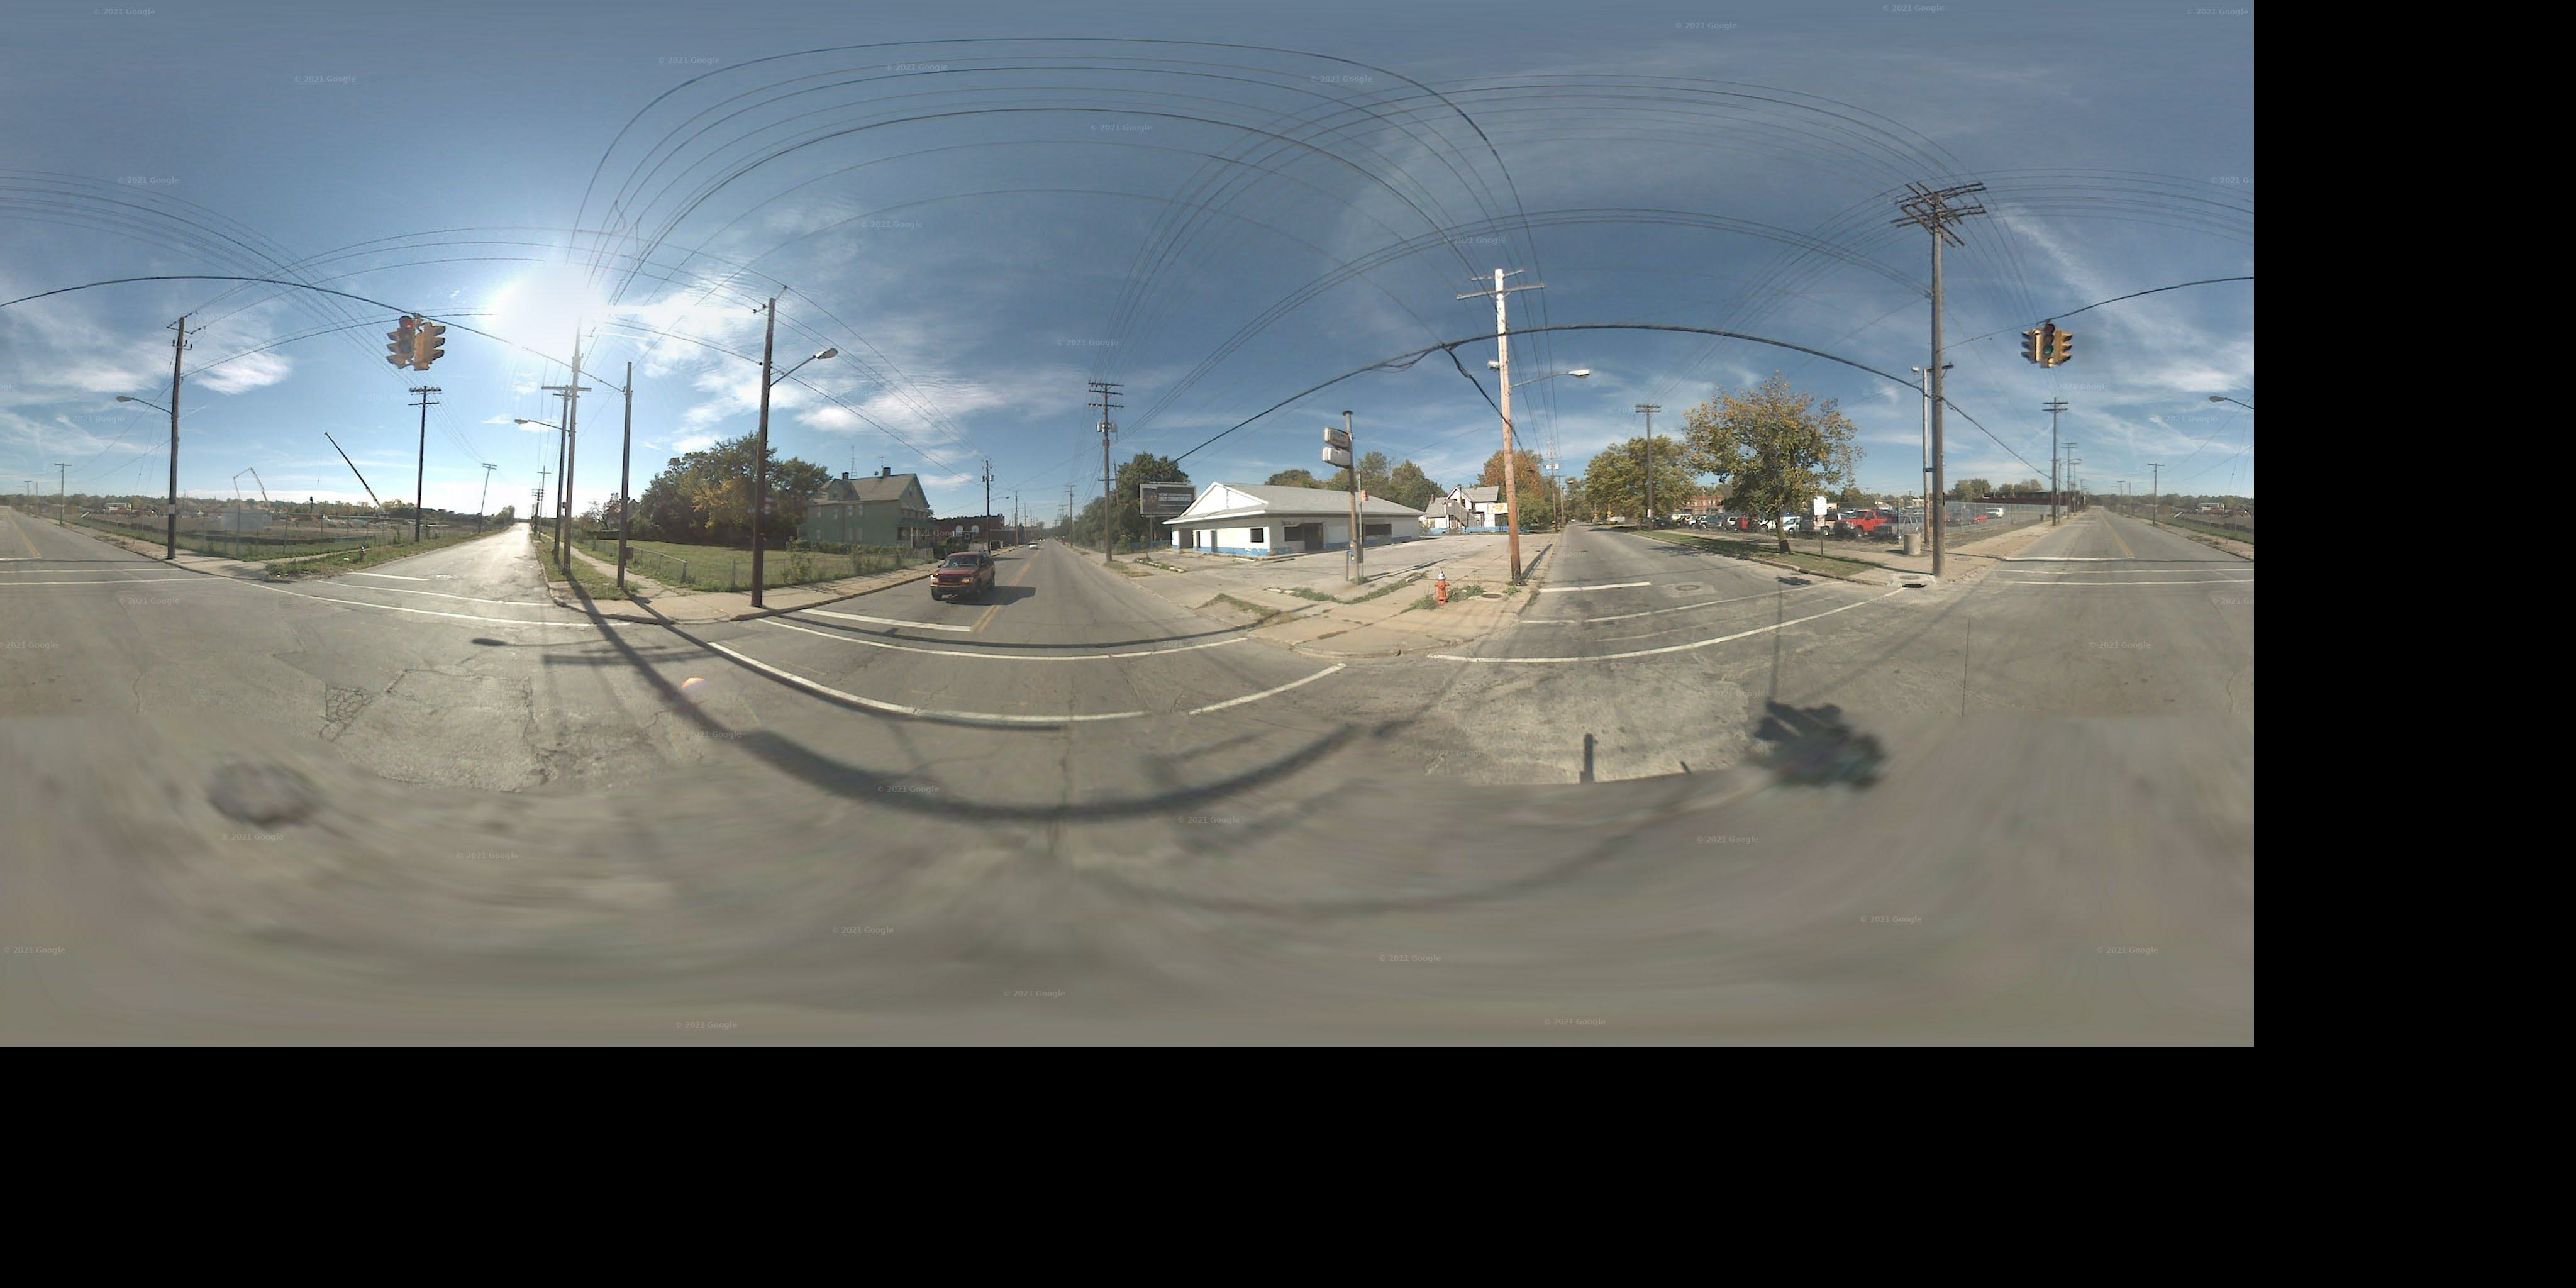Curb Ramp: (662, 609, 731, 631)
Irregular Ramp: (1426, 606, 1516, 657), (559, 593, 626, 631), (240, 568, 309, 593)
Missing Curb Ramp: (1244, 611, 1339, 677), (1835, 563, 1894, 595), (177, 557, 222, 588), (1948, 555, 1994, 585)
